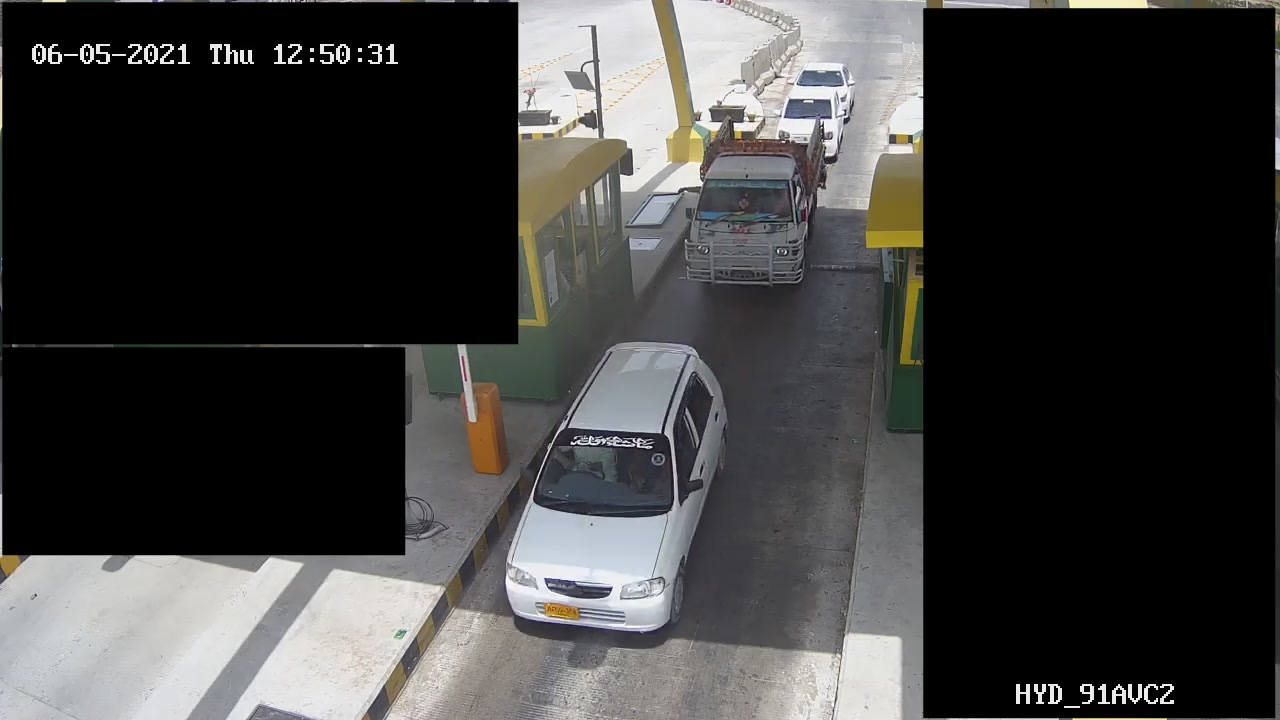F2: (670, 118, 835, 294)
